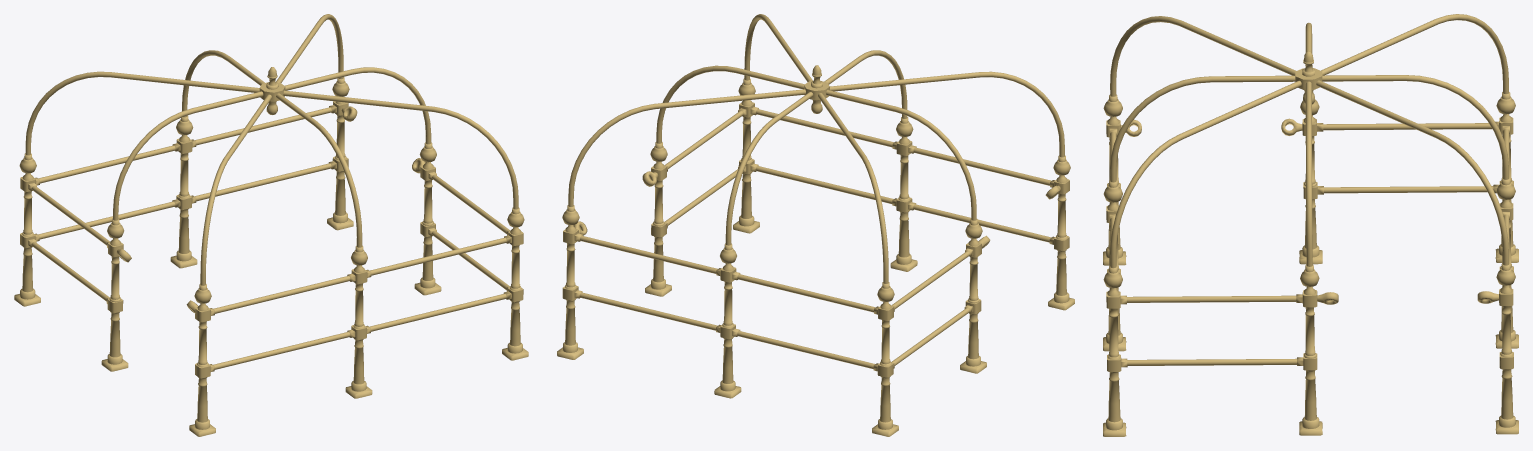
The model's file is HatchCovers_001_Mesh.fbx.
3 views of the same model, side by side, from view 1: azimuth 30°, elevation 25°; view 2: azimuth 150°, elevation 25°; view 3: azimuth 270°, elevation 25° (orthographic). The views are drawn at different scales.
Parts seen in each view (by area): view 1: HatchRails.001; view 2: HatchRails.001; view 3: HatchRails.001.
Boxes of the visible parts, x1=… form: HatchRails.001: x1=14, y1=14, x2=528, y2=436; HatchRails.001: x1=557, y1=14, x2=1074, y2=436; HatchRails.001: x1=1103, y1=14, x2=1518, y2=436.
Size of the model in its own units: 185 by 141 by 179.
